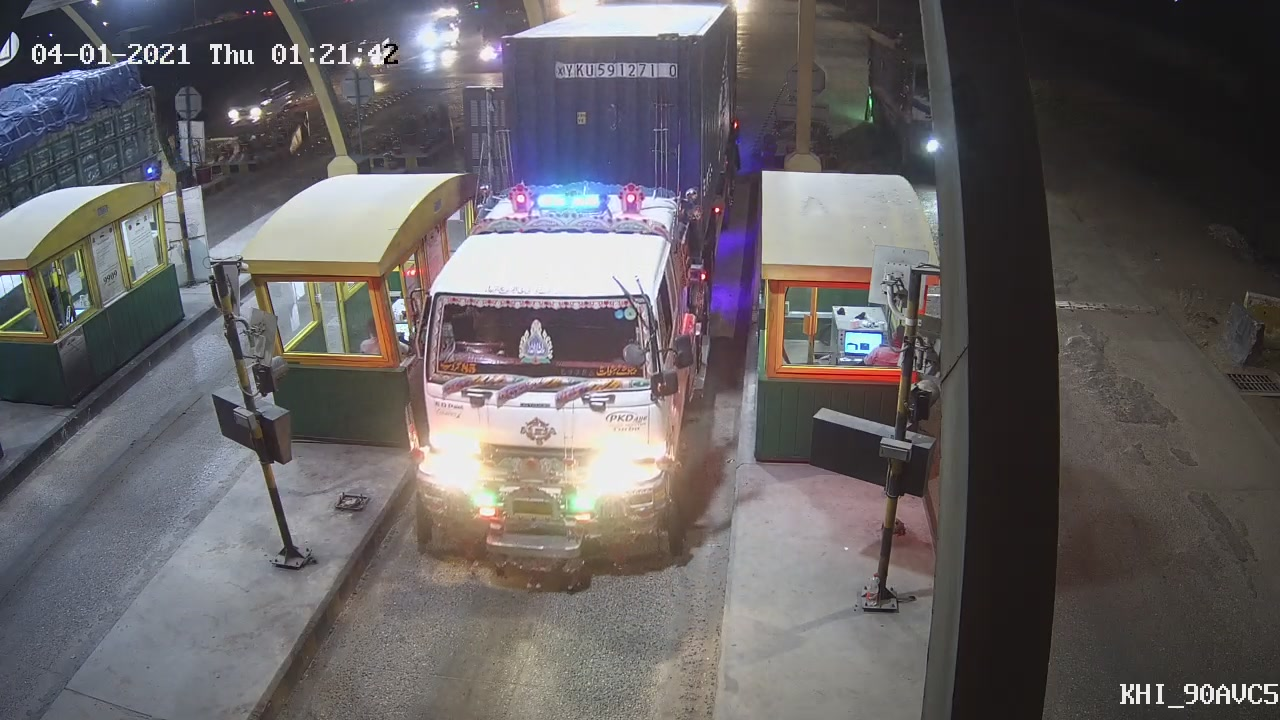F6: (395, 1, 758, 585)
